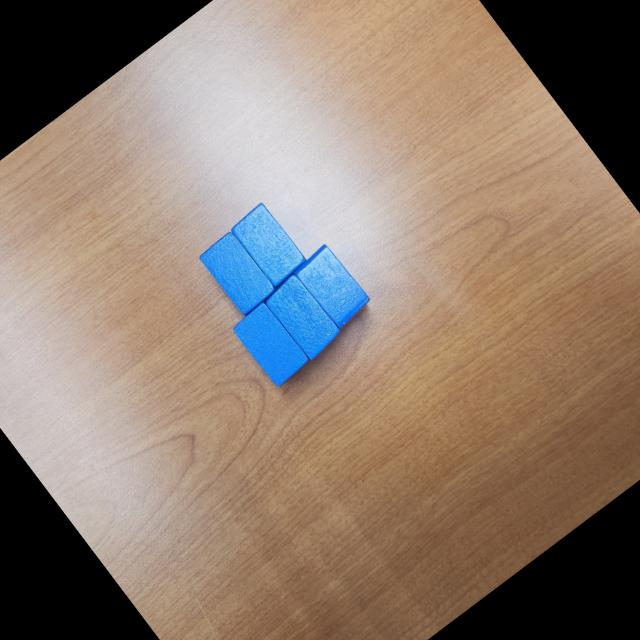blue: (193, 226, 280, 320), (261, 271, 347, 364), (229, 298, 314, 391), (291, 240, 376, 332), (227, 200, 311, 290)
